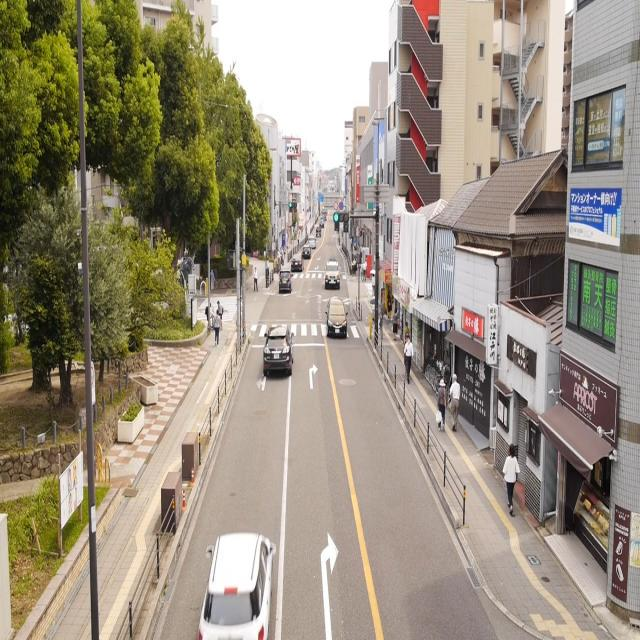Car: (198, 527, 275, 640), (261, 316, 295, 382), (324, 296, 348, 342), (322, 254, 343, 293), (277, 267, 293, 296), (289, 252, 304, 272), (300, 244, 311, 260), (308, 234, 316, 252)
